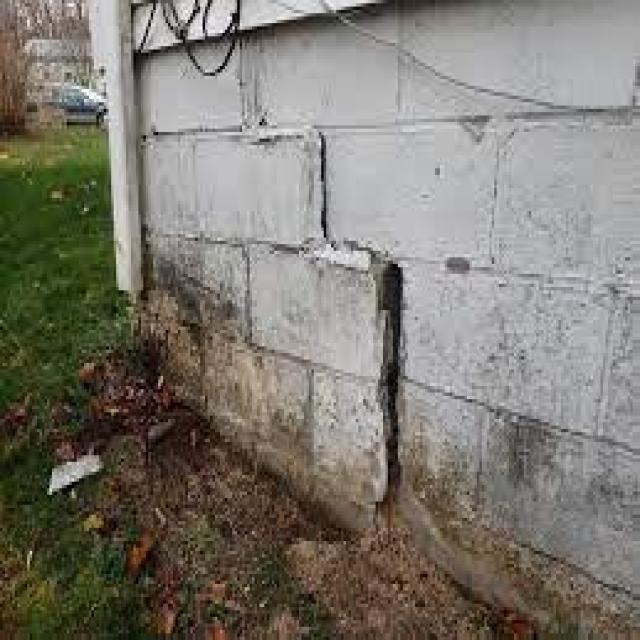Crack: (252, 112, 405, 508)
